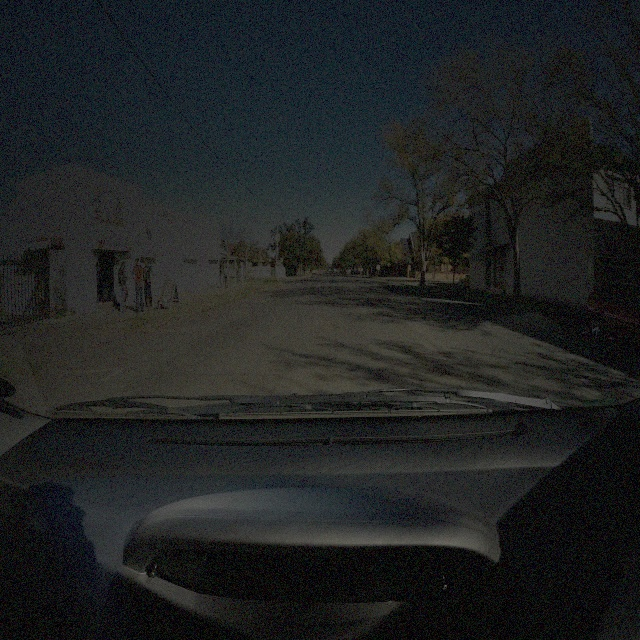pothole: (321, 324, 338, 334), (438, 366, 450, 377)
